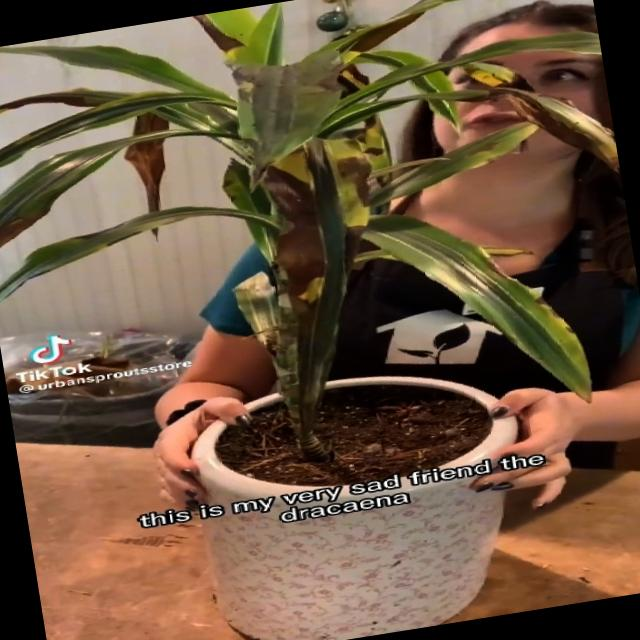lisc_suchy: (0, 129, 242, 248), (0, 206, 274, 305), (412, 87, 620, 177), (234, 42, 345, 194), (259, 138, 329, 362), (312, 114, 394, 274), (0, 45, 222, 95), (331, 0, 457, 65), (122, 112, 170, 244), (190, 7, 259, 71), (233, 272, 282, 359), (0, 88, 139, 115), (463, 63, 534, 93)
roslina_sucha: (0, 0, 622, 439)
